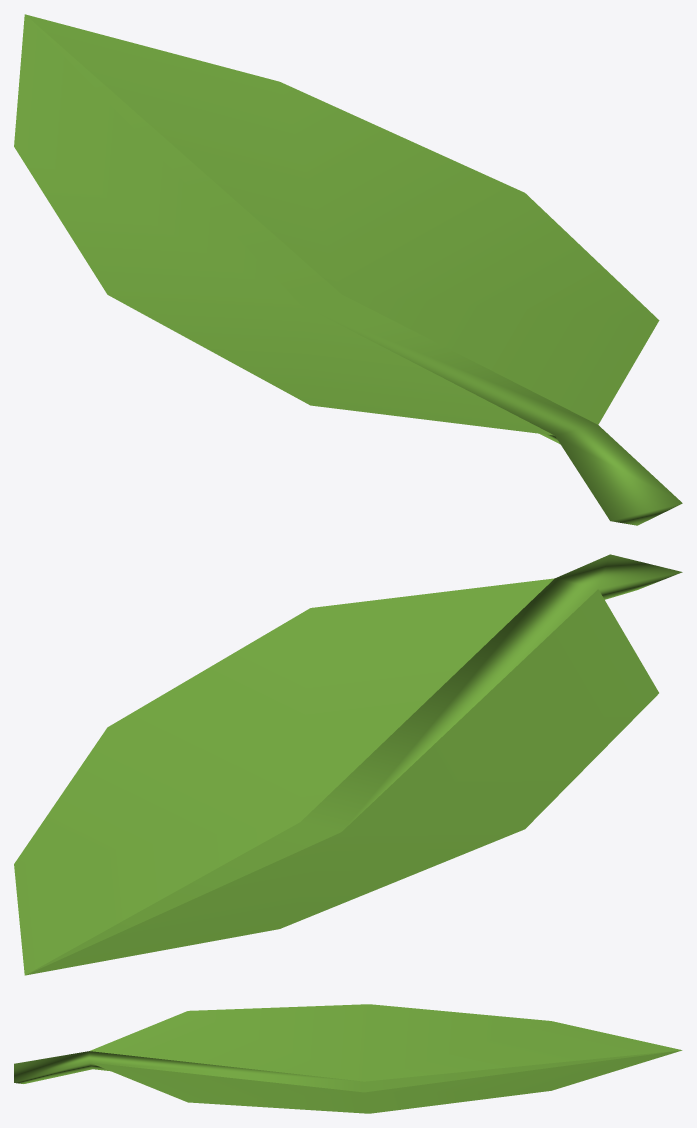
The model's file is leaf-2.glb.
The picture shows the model from 3 angles, top to bottom: view 1: azimuth 30°, elevation 25°; view 2: azimuth 150°, elevation 25°; view 3: azimuth 270°, elevation 25°; orthographic projection. The views are drawn at different scales.
Parts seen in each view (by area): view 1: leaf-cherry; view 2: leaf-cherry; view 3: leaf-cherry.
Part boxes in pixels (left/top/right/bottom): leaf-cherry: left=14, top=14, right=682, bottom=525; leaf-cherry: left=14, top=554, right=682, bottom=975; leaf-cherry: left=14, top=1004, right=682, bottom=1113.
Size of the model in its own units: 0.2679 by 0.0563 by 0.6908.
